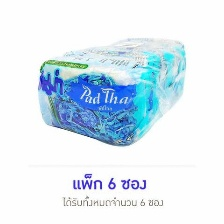snack: (29, 30, 191, 153)
